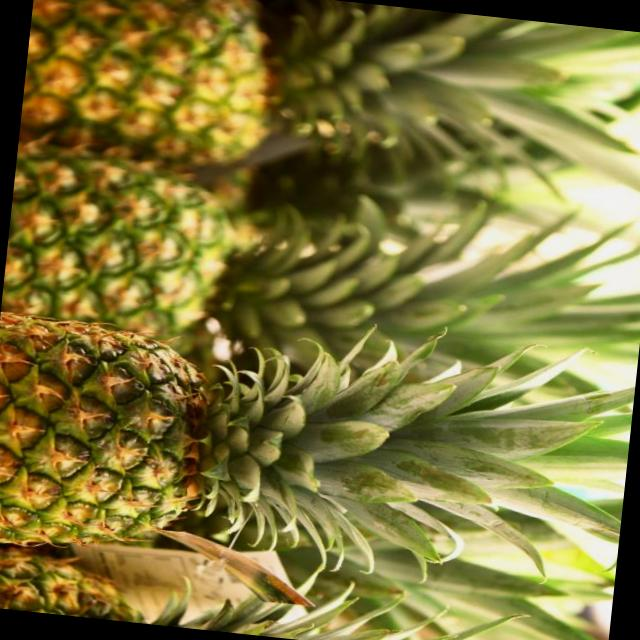pork: (0, 316, 315, 575), (0, 151, 334, 349), (16, 0, 342, 180)
